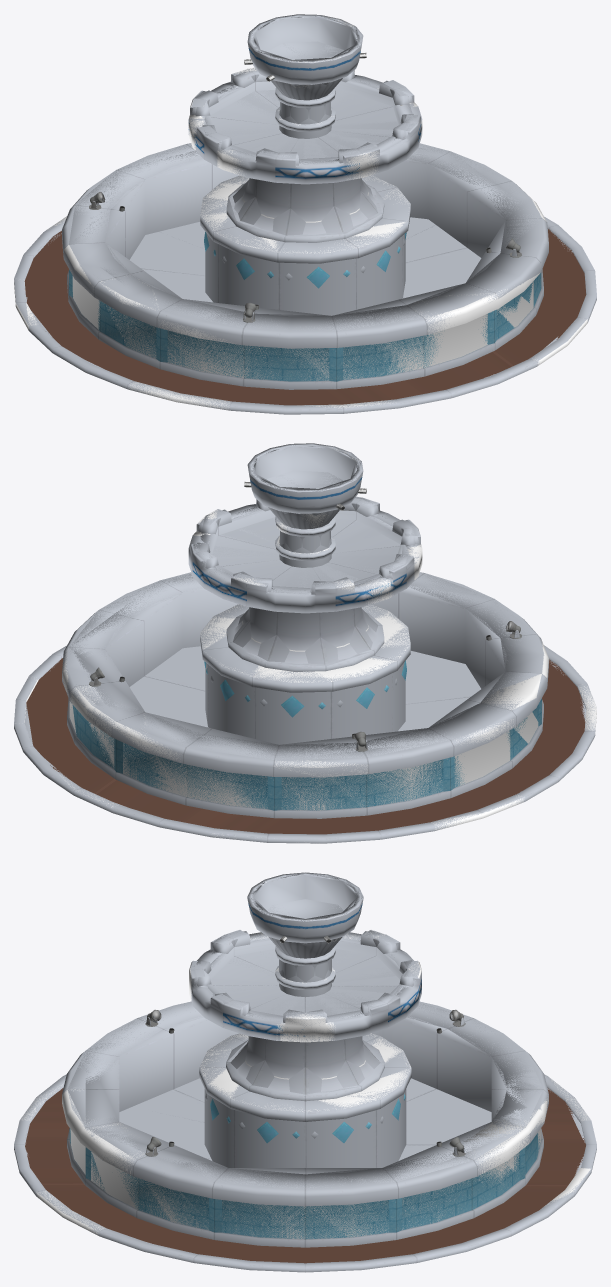
Rendered from objects_un_c02fountain01.gltf.
3 renders of one model, top to bottom at view 1: azimuth 30°, elevation 25°; view 2: azimuth 150°, elevation 25°; view 3: azimuth 270°, elevation 25°, orthographic.
Visible parts, largest first — view 1: um_objects_un_c02fountain01_model_lod0Shape:objects_un_c02fo (×3), um_objects_un_c02fountain01_model_lod2Shape:objects_un_c02fo, um_objects_un_c02fountain01_model_lod1Shape:objects_un_c02fo (×2); view 2: um_objects_un_c02fountain01_model_lod0Shape:objects_un_c02fo (×3), um_objects_un_c02fountain01_model_lod2Shape:objects_un_c02fo, um_objects_un_c02fountain01_model_lod1Shape:objects_un_c02fo (×2); view 3: um_objects_un_c02fountain01_model_lod0Shape:objects_un_c02fo (×3), um_objects_un_c02fountain01_model_lod2Shape:objects_un_c02fo, um_objects_un_c02fountain01_model_lod1Shape:objects_un_c02fo (×2).
Part boxes in pixels (x1=…): um_objects_un_c02fountain01_model_lod0Shape:objects_un_c02fo (×3): x1=14, y1=14, x2=596, y2=414; um_objects_un_c02fountain01_model_lod2Shape:objects_un_c02fo: x1=69, y1=15, x2=540, y2=381; um_objects_un_c02fountain01_model_lod1Shape:objects_un_c02fo (×2): x1=26, y1=42, x2=572, y2=405; um_objects_un_c02fountain01_model_lod0Shape:objects_un_c02fo (×3): x1=14, y1=443, x2=596, y2=843; um_objects_un_c02fountain01_model_lod2Shape:objects_un_c02fo: x1=69, y1=444, x2=541, y2=810; um_objects_un_c02fountain01_model_lod1Shape:objects_un_c02fo (×2): x1=24, y1=471, x2=586, y2=833; um_objects_un_c02fountain01_model_lod0Shape:objects_un_c02fo (×3): x1=14, y1=872, x2=596, y2=1272; um_objects_un_c02fountain01_model_lod2Shape:objects_un_c02fo: x1=85, y1=873, x2=525, y2=1232; um_objects_un_c02fountain01_model_lod1Shape:objects_un_c02fo (×2): x1=25, y1=898, x2=585, y2=1261.
Size of the model in its own units: 11 by 5.37 by 11.
Materials: 3 (2 with a texture image).
